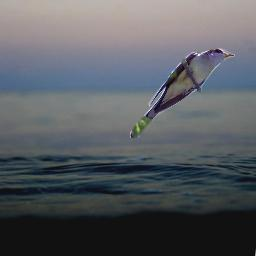Cuckoo: (130, 48, 235, 138)
